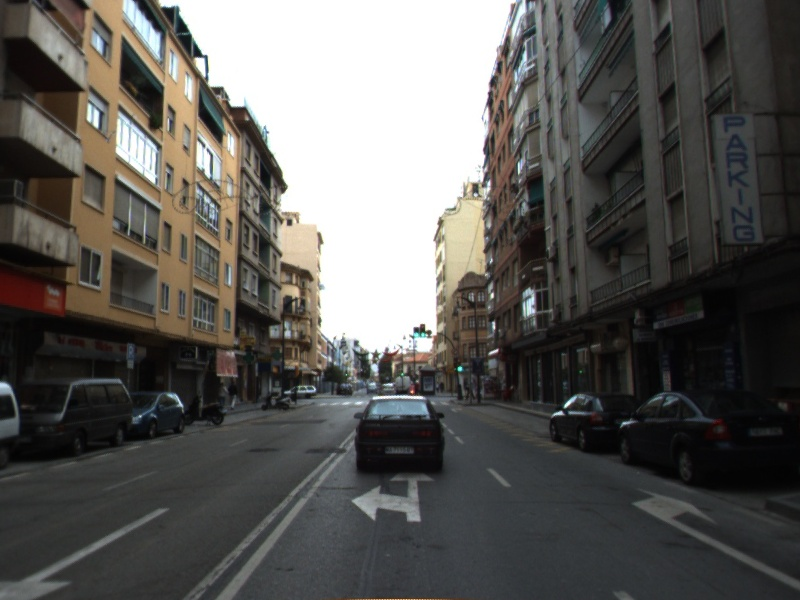RIGHT: (630, 486, 800, 591)
STRAIGHT_LEFT: (350, 470, 437, 523)
